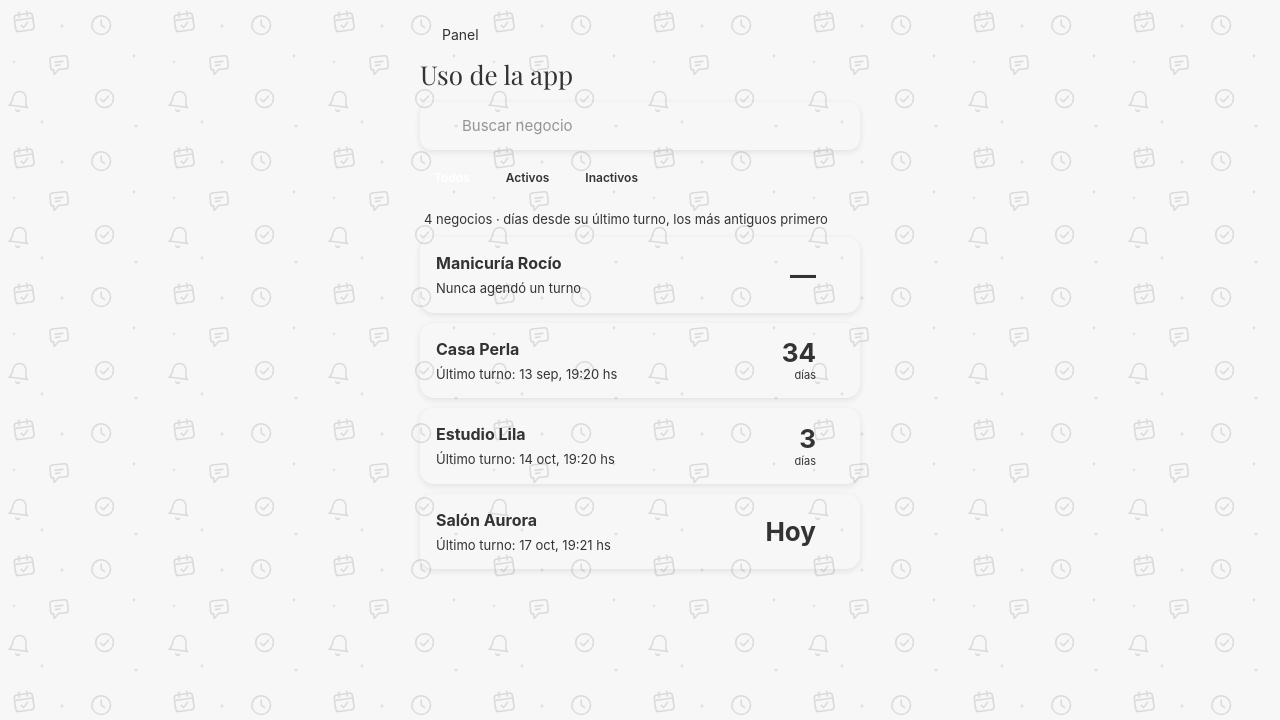
Test: UsoPage › Activos deja solo los de hasta 14 días; Inactivos incluye a quien nunca agendó
Check: the text "Casa Perla" is shown, box [436, 339, 519, 359]
Click the button "Activos" at (528, 178), box [492, 162, 563, 194]
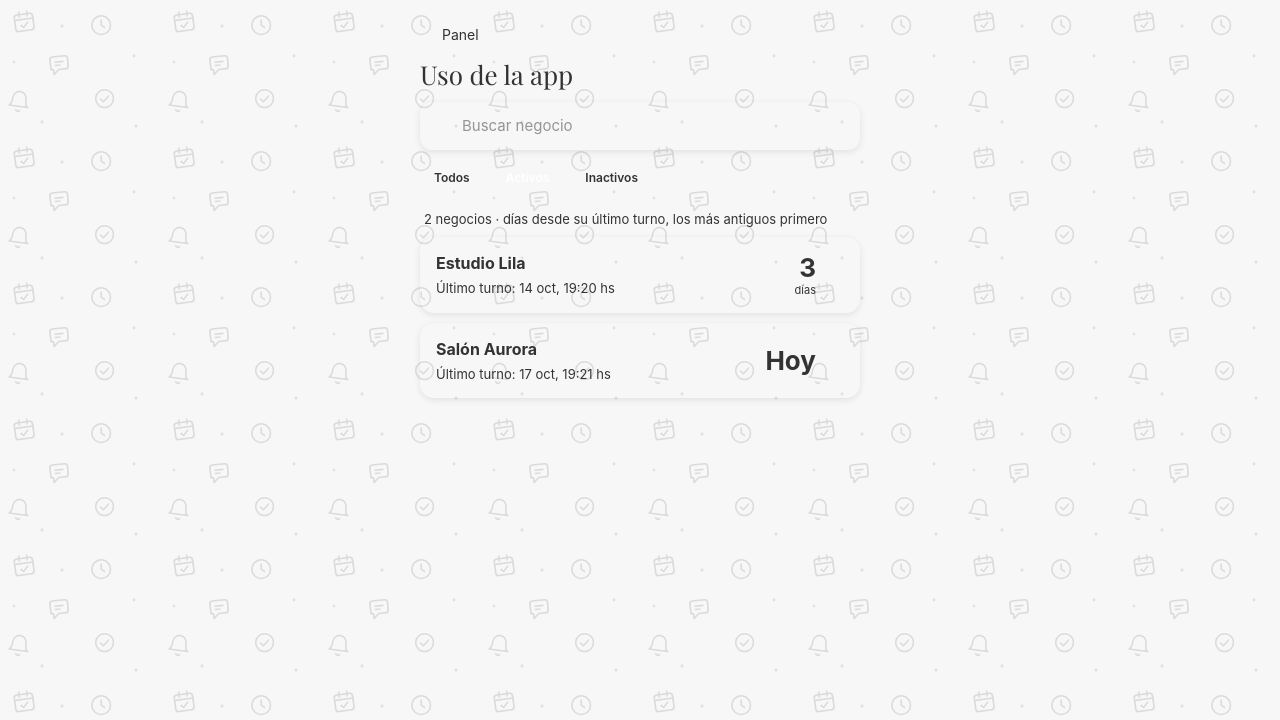
Check: the text "Estudio Lila" is shown, box [436, 253, 526, 273]
Check: the link "Casa Perla" is gone
Check: the link "Manicuría Rocío" is gone
Click the button "Inactivos" at (612, 178), box [571, 162, 652, 194]
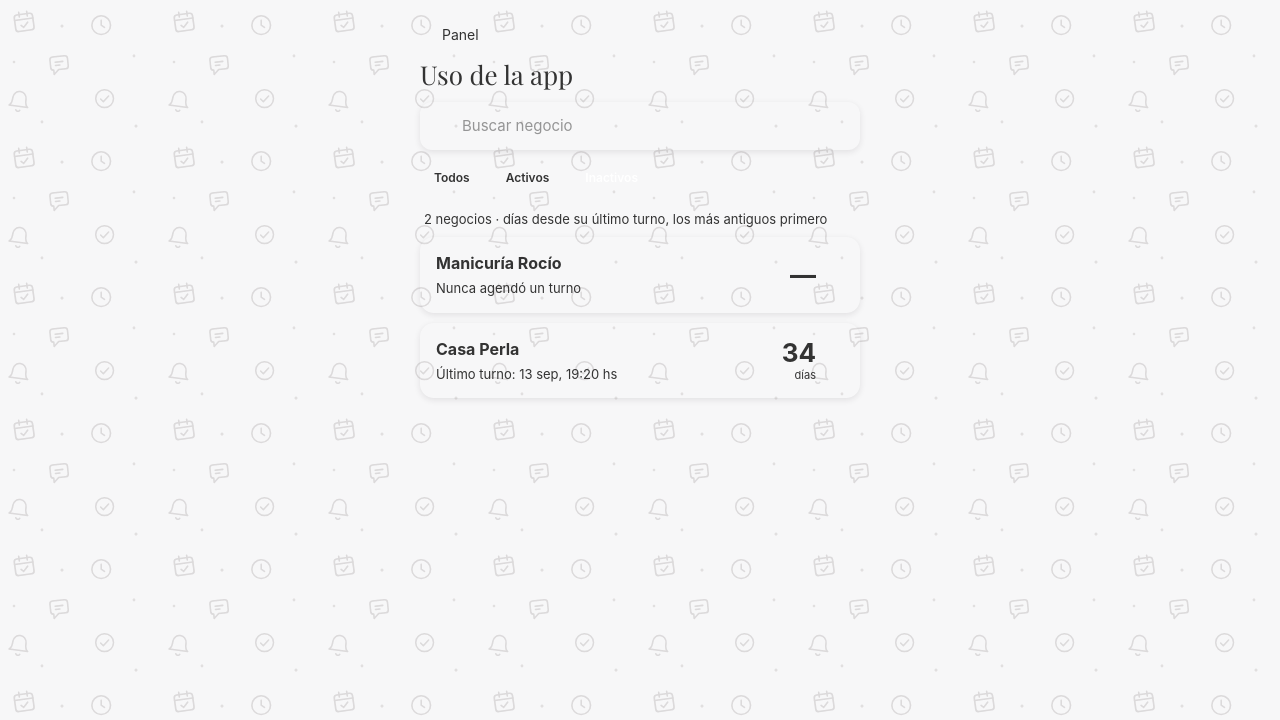
Check: the text "Casa Perla" is shown, box [436, 339, 519, 359]
Check: the text "Manicuría Rocío" is shown, box [436, 253, 562, 273]
Check: the link "Estudio Lila" is gone
